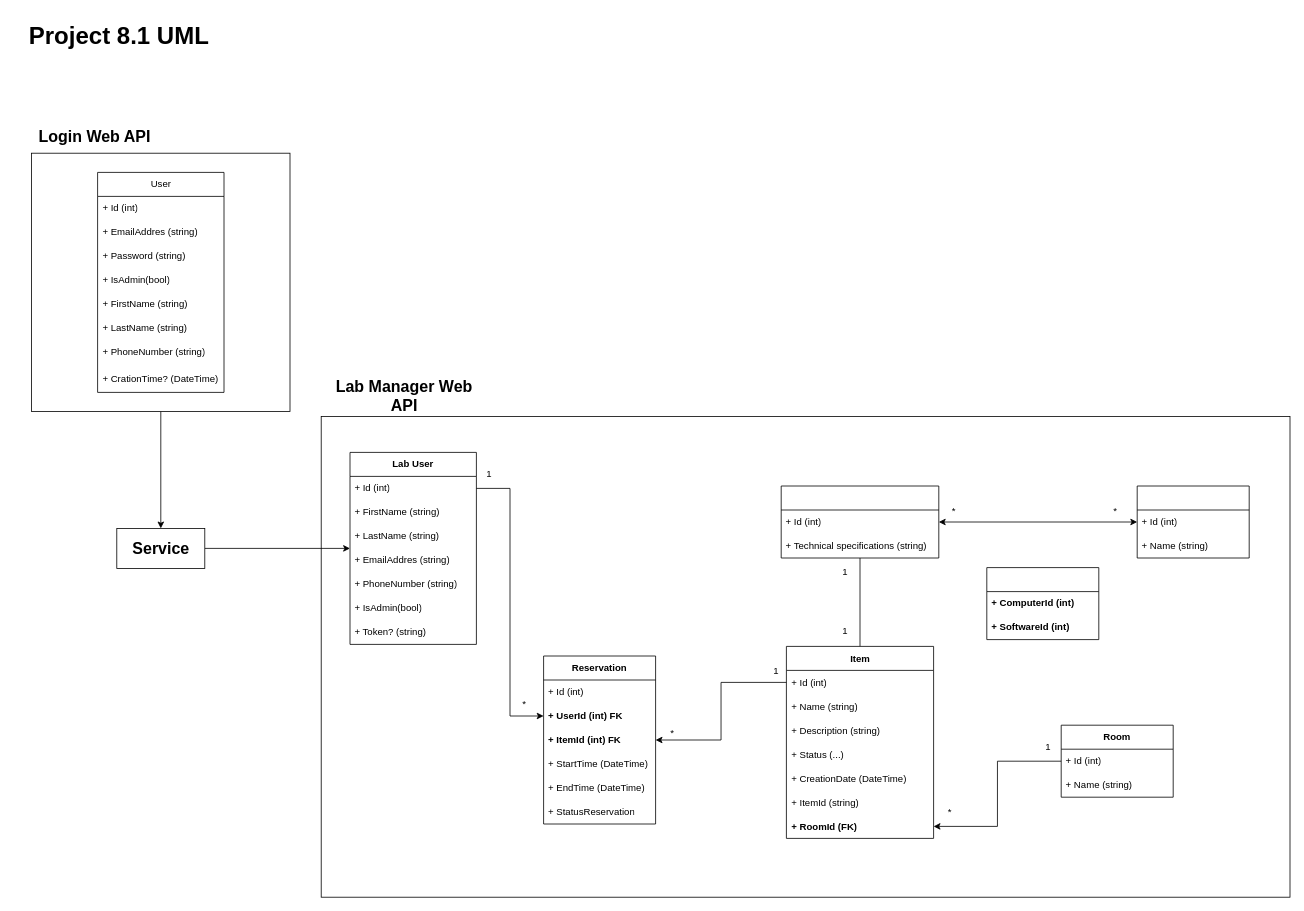
Image size: 1304x911. Some labels were removed from this diagram. Here are the shapes that lost their labels. From the top down, the box of each, then its label:
(780, 485, 939, 558): Computer
(1136, 485, 1249, 558): Software
(986, 567, 1099, 640): ComputerSoftware
